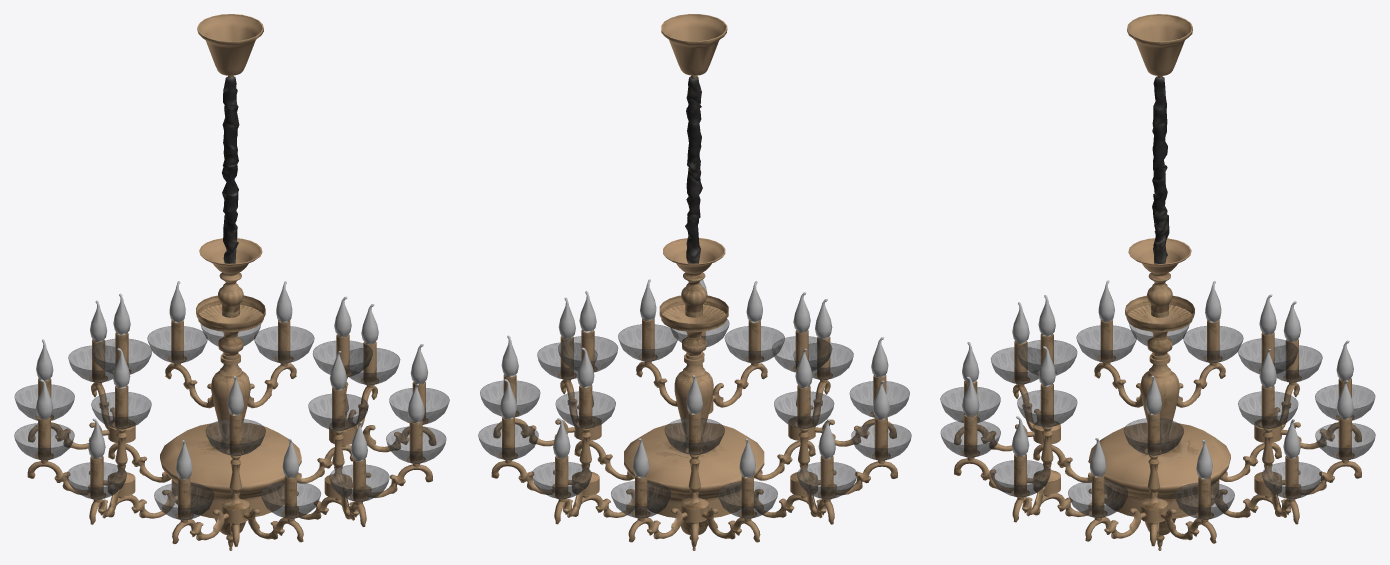
The model's file is chandelier_03.glb.
3 views of the same model, side by side, from view 1: azimuth 30°, elevation 25°; view 2: azimuth 150°, elevation 25°; view 3: azimuth 270°, elevation 25° (orthographic).
Parts seen in each view (by area): view 1: Chandelier_03; view 2: Chandelier_03; view 3: Chandelier_03.
Part boxes in pixels (x1=…): Chandelier_03: x1=14, y1=14, x2=449, y2=550; Chandelier_03: x1=478, y1=14, x2=911, y2=550; Chandelier_03: x1=940, y1=14, x2=1375, y2=550.
Size of the model in its own units: 0.7804 by 1.04 by 0.7854.
2 materials, 2 textured.
